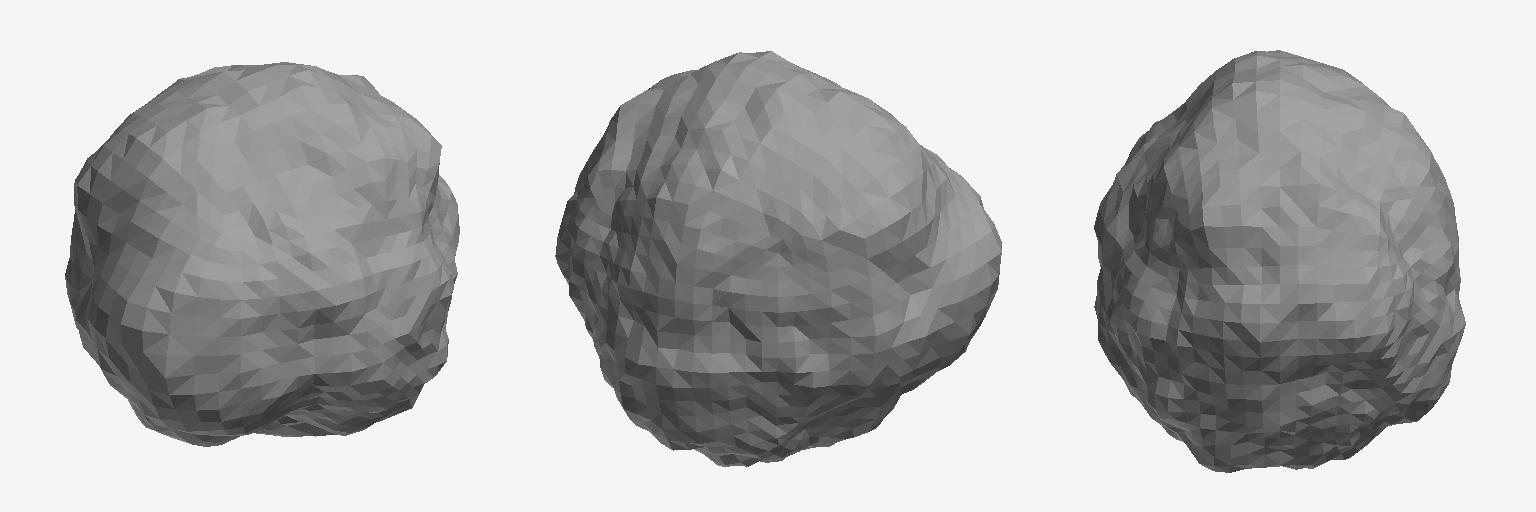
File: asteroid2.obj
3 renders of one model, left to right at view 1: azimuth 30°, elevation 25°; view 2: azimuth 150°, elevation 25°; view 3: azimuth 270°, elevation 25°, orthographic.
Parts seen in each view (by area): view 1: Cube; view 2: Cube; view 3: Cube.
Part boxes in pixels (x1,y1,x2,y2): Cube: (65,62,459,446); Cube: (555,51,1001,466); Cube: (1094,50,1465,472).
Bounding box in the file's own units: 1.79 × 1.7 × 1.54.